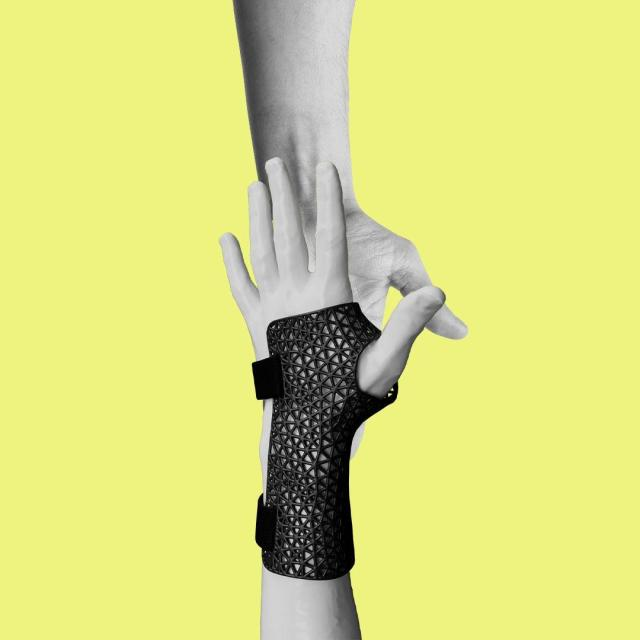Without deffect: (236, 287, 414, 589)
